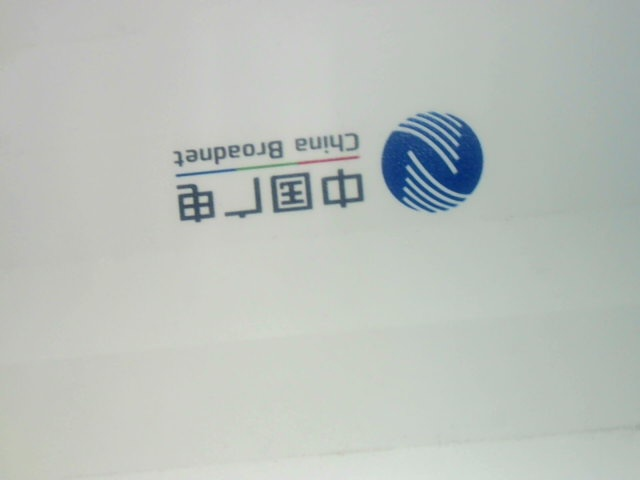AW_ChinaBroadNet: (161, 102, 496, 234)
